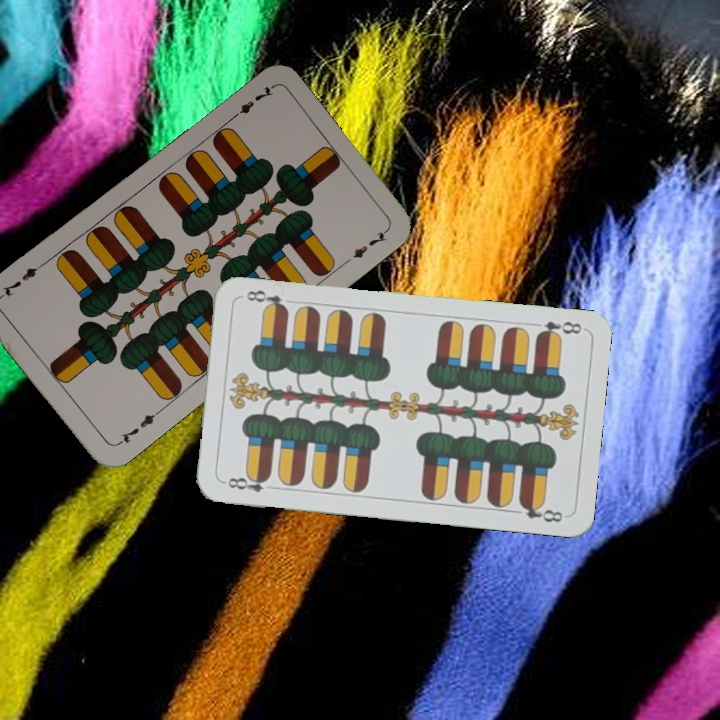E7: (225, 82, 276, 124), (113, 406, 163, 448)
E8: (532, 317, 585, 341), (220, 471, 272, 495)
